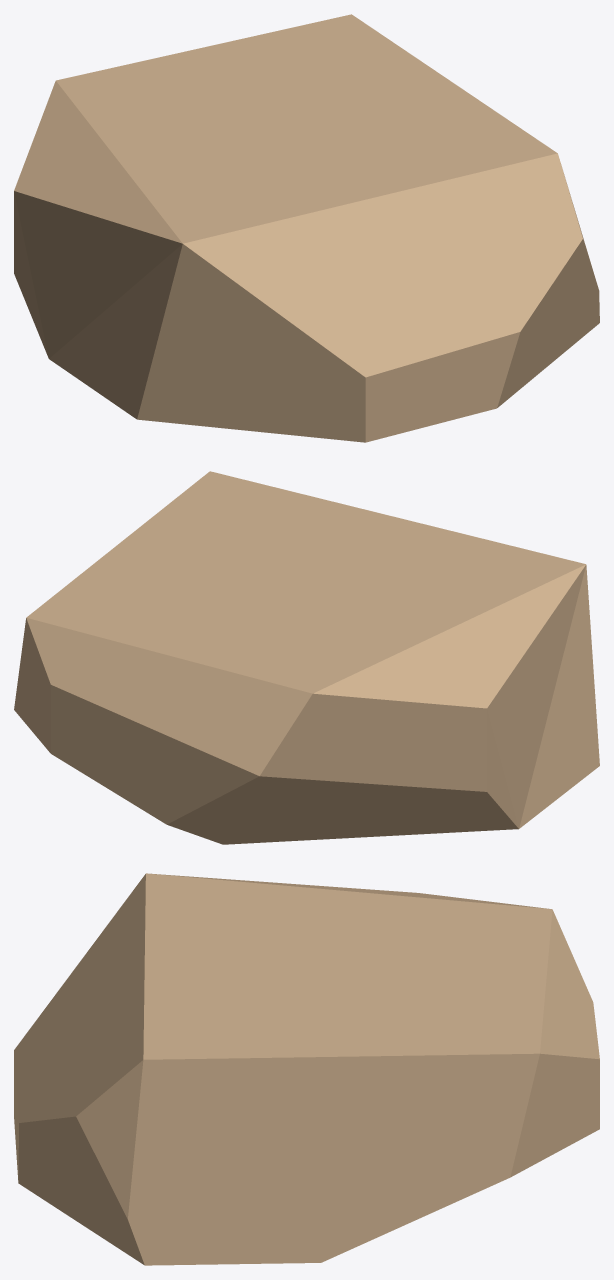
The model's file is Rock_Flat_m_14.fbx.
The picture shows the model from 3 angles, top to bottom: view 1: azimuth 30°, elevation 25°; view 2: azimuth 150°, elevation 25°; view 3: azimuth 270°, elevation 25°; orthographic projection. The views are drawn at different scales.
Parts seen in each view (by area): view 1: Rock_Flat_m_14; view 2: Rock_Flat_m_14; view 3: Rock_Flat_m_14.
Boxes of the visible parts, x1,y1,x2,y2 form: Rock_Flat_m_14: (14,14,599,442); Rock_Flat_m_14: (14,471,599,844); Rock_Flat_m_14: (14,873,599,1265).
Size of the model in its own units: 93.83 by 35.82 by 103.
